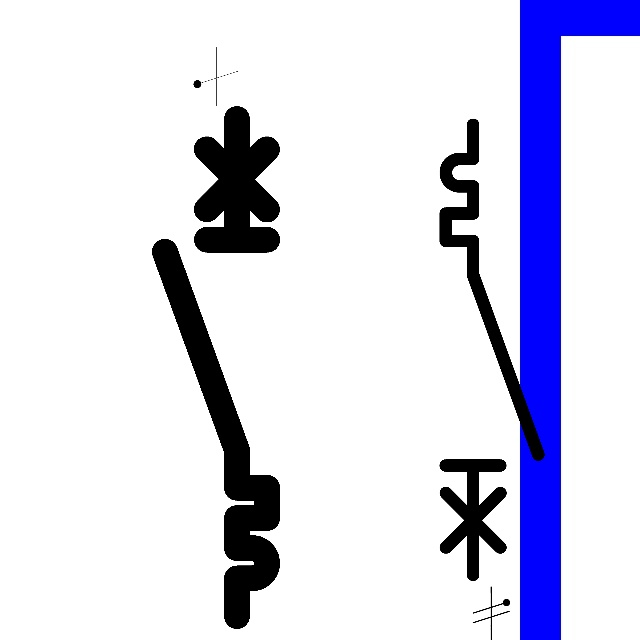interruptor_termomagnetico: (152, 106, 280, 629), (434, 113, 550, 586)
